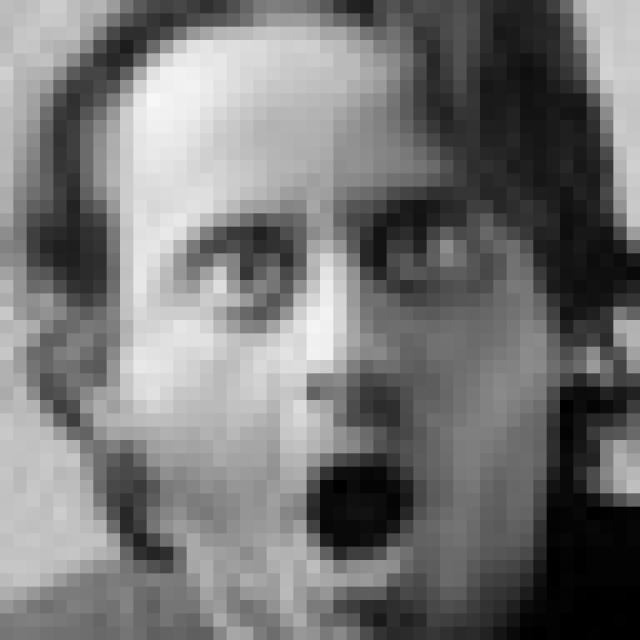surprise: (157, 179, 506, 600)
